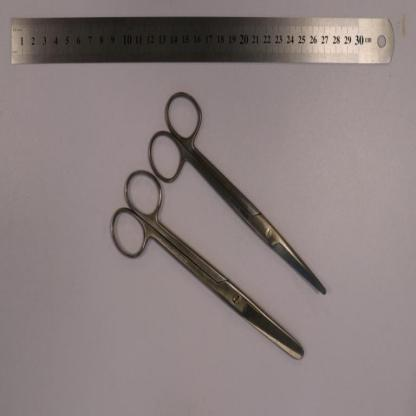Curved Mayo Scissors: (148, 89, 327, 296)
Dressing Scissors: (110, 165, 304, 361)
